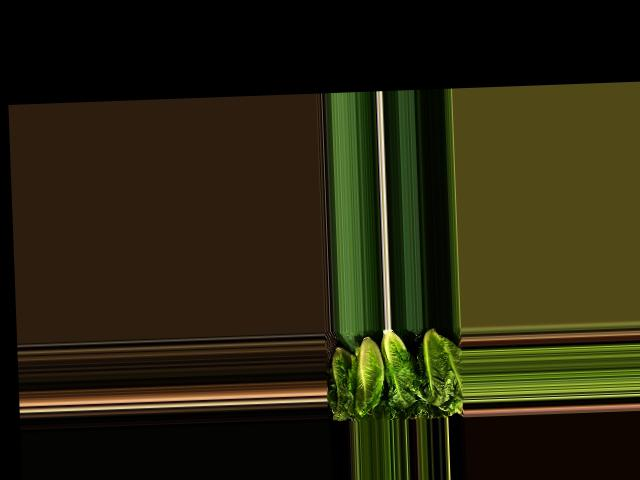lettuce: (331, 348, 355, 421)
